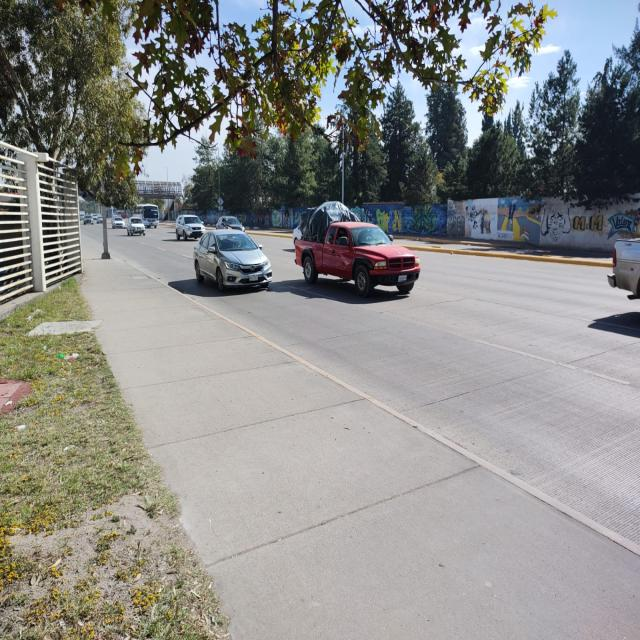Auto: (294, 200, 418, 287), (192, 232, 272, 290), (175, 213, 206, 240), (217, 214, 244, 237), (128, 216, 146, 237), (112, 217, 125, 230), (96, 215, 105, 225), (84, 216, 93, 224)
Autobus: (132, 204, 159, 229)
